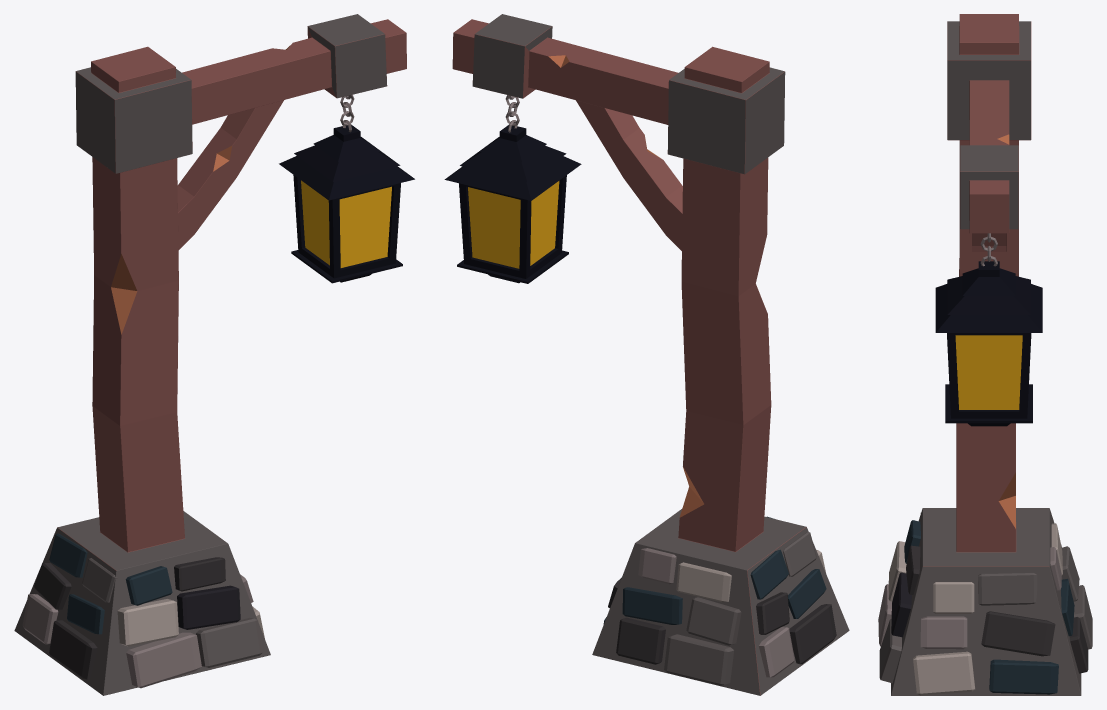
File: PosteVila1.fbx
3 renders of one model, left to right at view 1: azimuth 30°, elevation 25°; view 2: azimuth 150°, elevation 25°; view 3: azimuth 270°, elevation 25°, orthographic. The views are drawn at different scales.
Parts seen in each view (by area): view 1: Poste_LOD0; view 2: Poste_LOD0; view 3: Poste_LOD0.
Part boxes in pixels (x1=…): Poste_LOD0: x1=14, y1=14, x2=414, y2=695; Poste_LOD0: x1=444, y1=14, x2=849, y2=695; Poste_LOD0: x1=878, y1=14, x2=1092, y2=695.
Size of what is drawn, in the model's own units: 1.11 by 1.8 by 0.5615.
